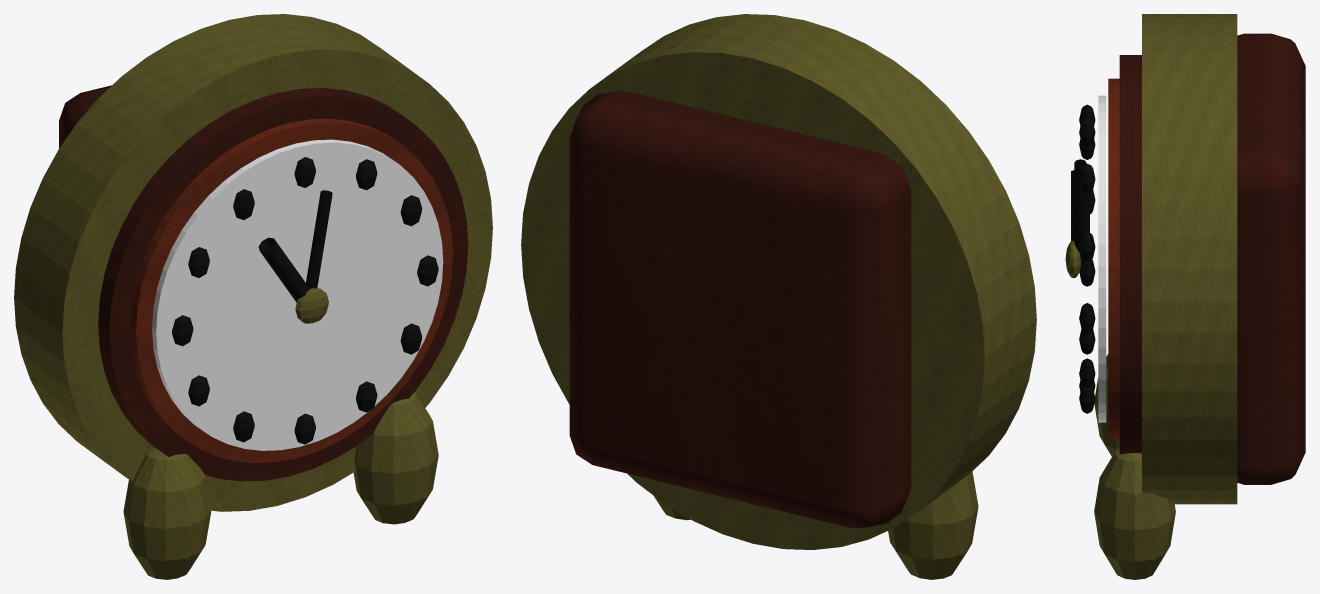
The model's file is 14_Prop_AntiqueClock.fbx.
3 renders of one model, left to right at view 1: azimuth 30°, elevation 25°; view 2: azimuth 150°, elevation 25°; view 3: azimuth 270°, elevation 25°, orthographic. The views are drawn at different scales.
Visible parts, largest first — view 1: Clock_Bezel.001, Clock_Glass.001, Clock_Dial.001, Clock_Face.001, Clock_Hanging_Ornament.002, Clock_Hanging_Ornament.003, Clock_Hand_Hour.001, Clock_Hand_Minute.001, Clock_Mount.001, Clock_Pivot.001; view 2: Clock_Mount.001, Clock_Bezel.001, Clock_Hanging_Ornament.002; view 3: Clock_Bezel.001, Clock_Mount.001, Clock_Dial.001, Clock_Hanging_Ornament.003, Clock_Face.001, Clock_Glass.001, Clock_Hand_Minute.001, Clock_Hanging_Ornament.002, Clock_Pivot.001, Clock_Hand_Hour.001, Clock_Hour_Mark.015, Clock_Hour_Mark.016 (+6 smaller).
Boxes of the visible parts, x1,y1,x2,y2 form: Clock_Bezel.001: (14, 14, 492, 511); Clock_Glass.001: (152, 139, 443, 450); Clock_Dial.001: (98, 88, 468, 481); Clock_Face.001: (130, 118, 452, 463); Clock_Hanging_Ornament.002: (123, 447, 211, 579); Clock_Hanging_Ornament.003: (353, 392, 438, 524); Clock_Hand_Hour.001: (258, 237, 308, 302); Clock_Hand_Minute.001: (306, 190, 332, 289); Clock_Mount.001: (59, 85, 111, 148); Clock_Pivot.001: (295, 288, 328, 323); Clock_Mount.001: (569, 90, 911, 527); Clock_Bezel.001: (521, 14, 1036, 549); Clock_Hanging_Ornament.002: (888, 471, 978, 579); Clock_Bezel.001: (1142, 14, 1237, 504); Clock_Mount.001: (1237, 33, 1305, 484); Clock_Dial.001: (1119, 55, 1141, 454); Clock_Hanging_Ornament.003: (1094, 447, 1175, 579); Clock_Face.001: (1108, 78, 1119, 439); Clock_Glass.001: (1098, 95, 1106, 422); Clock_Hand_Minute.001: (1074, 159, 1086, 262); Clock_Hanging_Ornament.002: (1094, 354, 1119, 456); Clock_Pivot.001: (1065, 241, 1081, 278); Clock_Hand_Hour.001: (1071, 170, 1089, 257); Clock_Hour_Mark.015: (1079, 303, 1095, 333); Clock_Hour_Mark.016: (1079, 358, 1095, 388).
Bounding box in the file's own units: 0.72 × 0.79 × 0.352.
5 materials, 4 textured.
